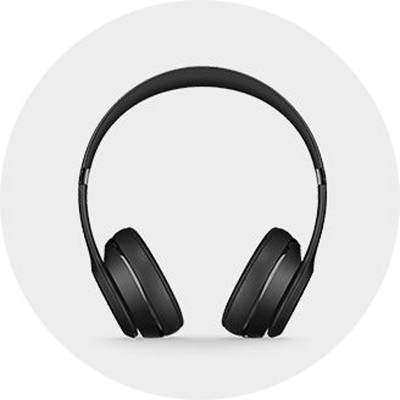Headphone: (70, 59, 332, 350)
